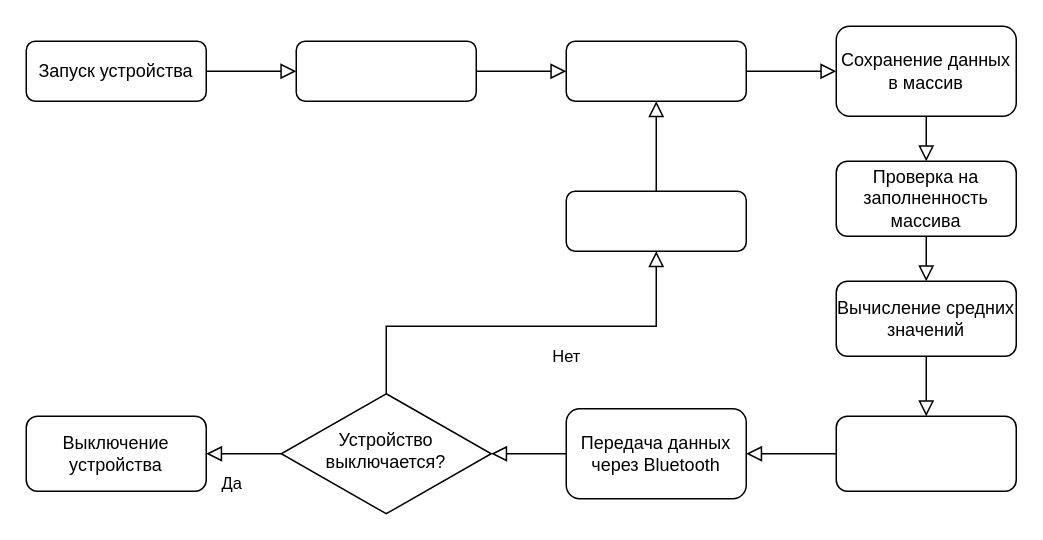
The diagram is 1043 pixels wide and 540 high, and some of its shapes have lost their labels. Here are the shapes that lost their labels. From the top down, the box of each, then its label:
(295, 40, 476, 101): Инициализация датчиков, Bluetooth
(565, 40, 746, 101): Сбор данных
(565, 190, 746, 251): Задержка (3 часа)
(835, 415, 1016, 491): Прогнозирование
